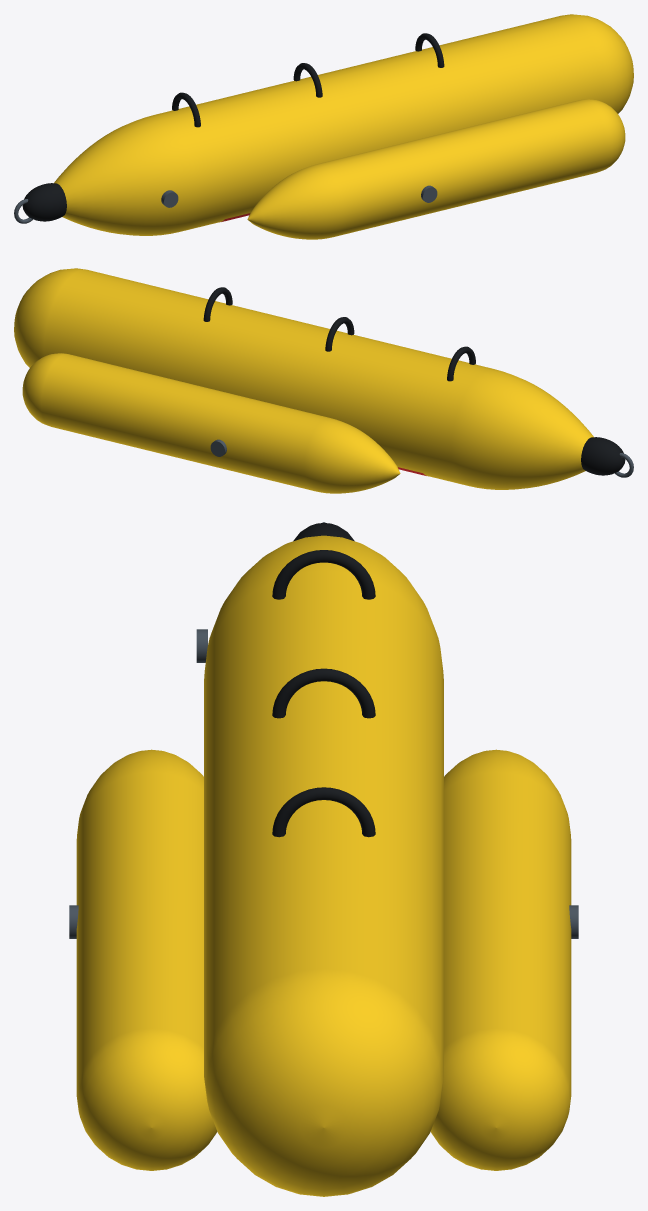
Rendered from ocean-rider-placeholder.glb.
The picture shows the model from 3 angles, top to bottom: view 1: azimuth 30°, elevation 25°; view 2: azimuth 150°, elevation 25°; view 3: azimuth 270°, elevation 25°; orthographic projection. The views are drawn at different scales.
Parts seen in each view (by area): view 1: MainTube, PontoonRight, NoseCap, Handle1, Handle3, Handle2; view 2: MainTube, PontoonLeft, NoseCap, Handle1, Handle3, Handle2; view 3: MainTube, PontoonLeft, PontoonRight, Handle3, Handle2, Handle1.
Part boxes in pixels (x1,y1,x2,y2): MainTube: [54, 14, 633, 235]; PontoonRight: [247, 99, 625, 239]; NoseCap: [22, 183, 66, 221]; Handle1: [172, 92, 200, 127]; Handle3: [415, 33, 444, 67]; Handle2: [293, 63, 322, 97]; MainTube: [14, 268, 593, 489]; PontoonLeft: [22, 353, 400, 493]; NoseCap: [581, 437, 625, 475]; Handle1: [447, 346, 475, 381]; Handle3: [203, 287, 232, 321]; Handle2: [325, 317, 354, 351]; MainTube: [204, 535, 443, 1196]; PontoonLeft: [430, 749, 571, 1170]; PontoonRight: [76, 749, 217, 1170]; Handle3: [272, 787, 375, 837]; Handle2: [272, 668, 375, 718]; Handle1: [272, 550, 375, 599].
Size of the model in its own units: 3.77 by 0.778 by 1.36.
